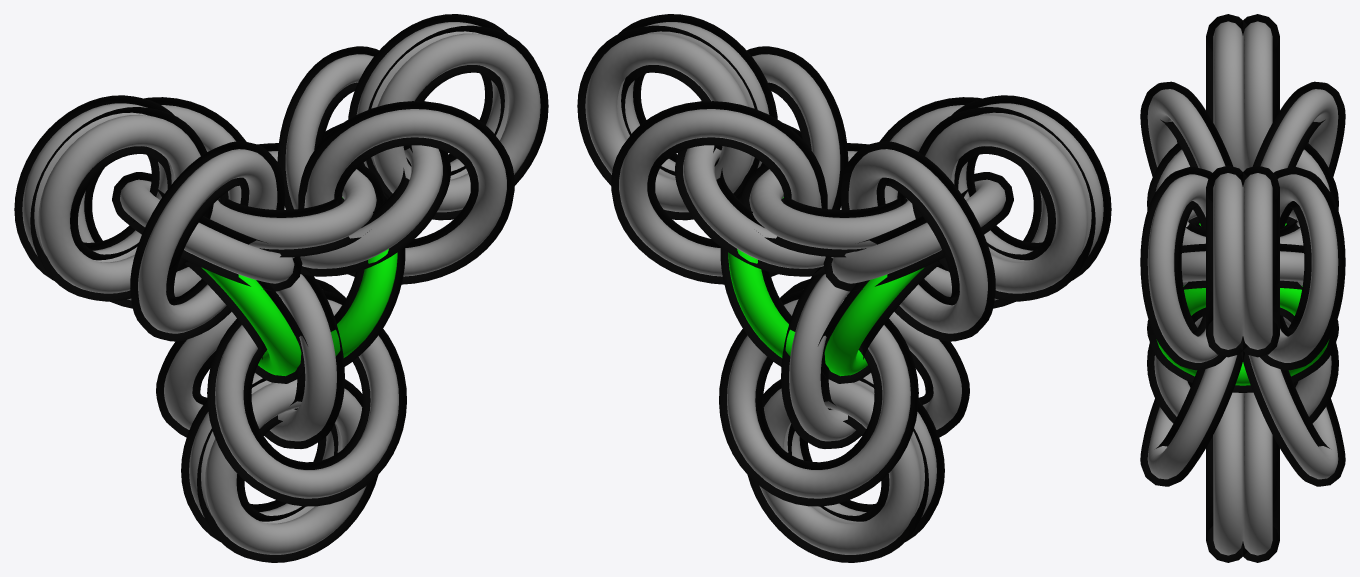
Rendered from b_3_unit_tutorial_08.glb.
The picture shows the model from 3 angles, left to right: view 1: azimuth 30°, elevation 25°; view 2: azimuth 150°, elevation 25°; view 3: azimuth 270°, elevation 25°; orthographic projection. The views are drawn at different scales.
Visible parts, largest first — view 1: Torus.019, Torus.015, Torus.011, Torus.017, Torus.009, Torus.013, Torus.002, Torus.007, Torus, Torus.012, Torus.001, Torus.016 (+6 smaller); view 2: Torus.020, Torus.016, Torus.012, Torus.018, Torus.010, Torus.014, Torus.002, Torus.007, Torus, Torus.011, Torus.001, Torus.015 (+6 smaller); view 3: Torus.015, Torus.016, Torus.009, Torus.010, Torus.019, Torus.020, Torus.017, Torus.018, Torus.013, Torus.014, Torus.011, Torus.012 (+5 smaller).
Boxes of the visible parts, left/top/right/bottom form: Torus.019: left=207, top=290, right=406, bottom=506; Torus.015: left=298, top=101, right=514, bottom=284; Torus.011: left=30, top=107, right=213, bottom=301; Torus.017: left=130, top=141, right=285, bottom=341; Torus.009: left=366, top=25, right=548, bottom=220; Torus.013: left=197, top=374, right=378, bottom=562; Torus.002: left=264, top=266, right=344, bottom=448; Torus.007: left=210, top=143, right=384, bottom=257; Torus: left=284, top=123, right=450, bottom=276; Torus.012: left=14, top=95, right=174, bottom=280; Torus.001: left=112, top=172, right=302, bottom=291; Torus.016: left=277, top=46, right=378, bottom=209; Torus.020: left=719, top=290, right=918, bottom=506; Torus.016: left=611, top=101, right=827, bottom=284; Torus.012: left=912, top=107, right=1095, bottom=301; Torus.018: left=840, top=141, right=995, bottom=341; Torus.010: left=577, top=25, right=759, bottom=220; Torus.014: left=747, top=374, right=928, bottom=562; Torus.002: left=781, top=266, right=861, bottom=448; Torus.007: left=741, top=143, right=915, bottom=257; Torus: left=675, top=123, right=841, bottom=276; Torus.011: left=951, top=95, right=1111, bottom=280; Torus.001: left=823, top=172, right=1013, bottom=291; Torus.015: left=747, top=46, right=848, bottom=209; Torus.015: left=1140, top=167, right=1225, bottom=370; Torus.016: left=1260, top=167, right=1345, bottom=370; Torus.009: left=1206, top=165, right=1247, bottom=357; Torus.010: left=1238, top=165, right=1279, bottom=357; Torus.019: left=1140, top=351, right=1244, bottom=486; Torus.020: left=1241, top=351, right=1345, bottom=486; Torus.017: left=1140, top=81, right=1233, bottom=176; Torus.018: left=1252, top=81, right=1345, bottom=176; Torus.013: left=1206, top=392, right=1247, bottom=562; Torus.014: left=1238, top=392, right=1279, bottom=562; Torus.011: left=1206, top=14, right=1247, bottom=171; Torus.012: left=1238, top=14, right=1279, bottom=171.
Bounding box in the file's own units: 7.45 × 6.8 × 2.78.
